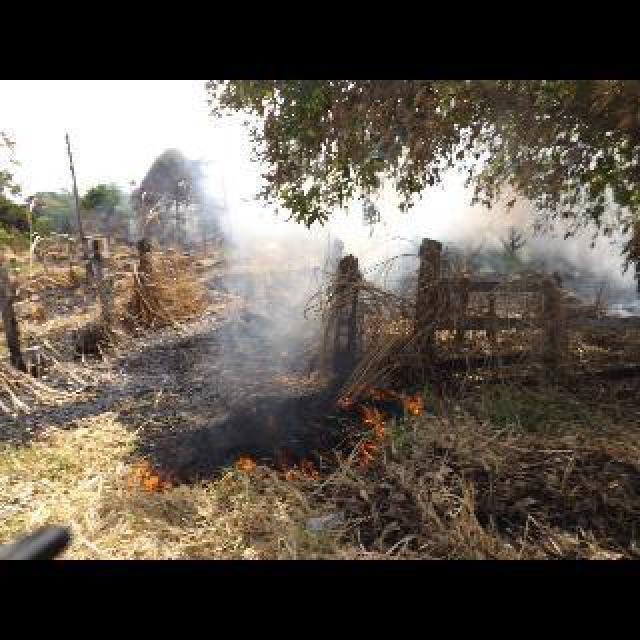Fire: (130, 436, 320, 490), (338, 376, 424, 458)
